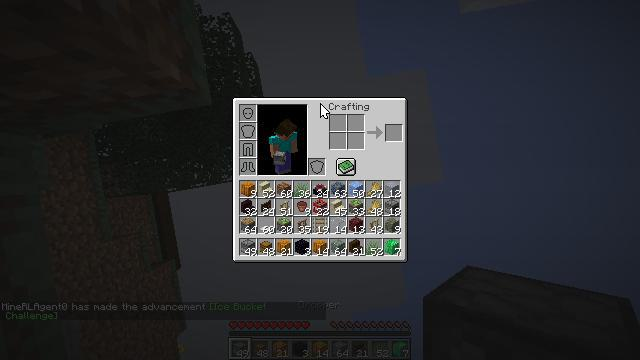cursor: (103, 320, 119, 330)
